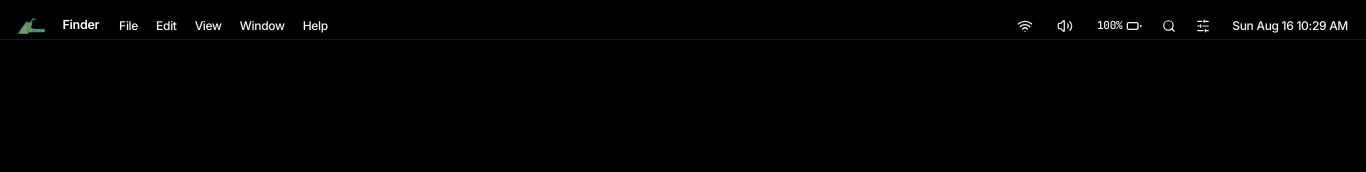
Test: Adversarial Stress Testing: M1 Core OS UI & Interactions › 5. TopMenuBar Live Clock & Interactions Stress Tests › switches between standard menu items (File, Edit, View, Window, Help)
The width and height of the screenshot is (1366, 172).
// Open "File"
Click the button with test id "menu-item-file" at {"x": 129, "y": 26}, box top-left (111, 14), bottom-right (146, 36)
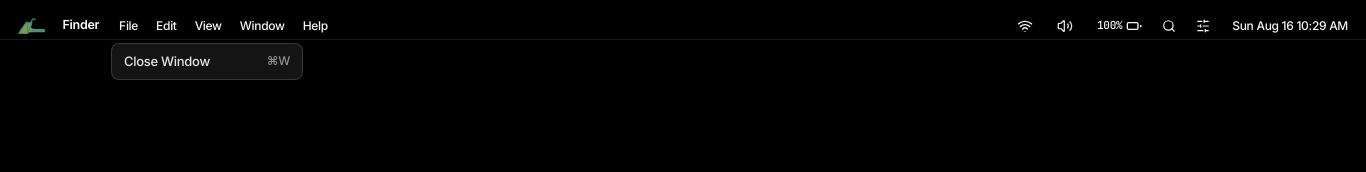
Result: the text "Close Window" is shown at top-left (124, 52), bottom-right (210, 71)
// Switch directly to "View"
Click the button with test id "menu-item-view" at {"x": 208, "y": 26}, box top-left (187, 14), bottom-right (230, 36)
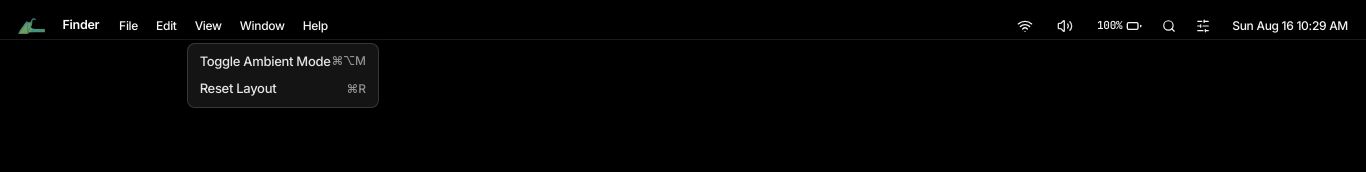
Result: the text "Toggle Ambient Mode" is shown at top-left (200, 52), bottom-right (330, 71)
Result: the button "Close Window" is gone
// Switch to "Window"
Click the button with test id "menu-item-window" at {"x": 262, "y": 26}, box top-left (232, 14), bottom-right (293, 36)
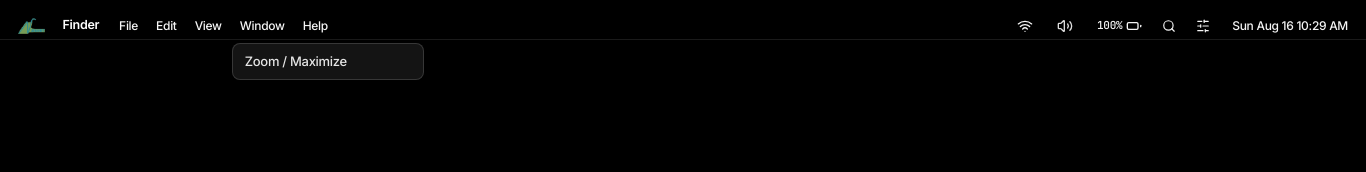
Result: the text "Zoom / Maximize" is shown at top-left (245, 52), bottom-right (347, 71)
// Switch to "Help"
Click the button with test id "menu-item-help" at {"x": 315, "y": 26}, box top-left (295, 14), bottom-right (336, 36)
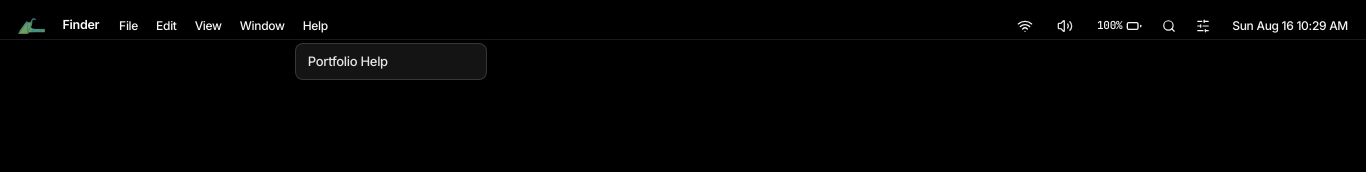
Result: the text "Portfolio Help" is shown at top-left (308, 52), bottom-right (388, 68)
